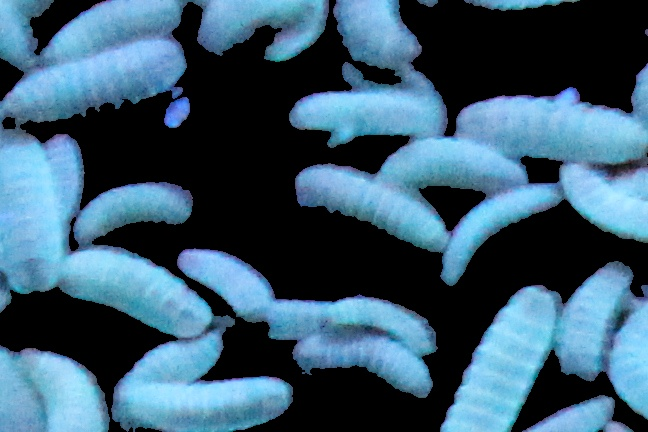larvae: (442, 286, 566, 432), (1, 36, 187, 123), (510, 207, 648, 317), (454, 95, 648, 161), (295, 166, 447, 250), (441, 182, 562, 284), (1, 131, 65, 292), (118, 377, 292, 432), (291, 331, 433, 396), (556, 259, 632, 379), (292, 88, 448, 142), (40, 1, 182, 60), (374, 140, 534, 192), (23, 340, 110, 432), (72, 184, 192, 247), (178, 240, 269, 321), (322, 291, 440, 353), (558, 164, 648, 243), (197, 1, 309, 55), (325, 1, 419, 63), (121, 331, 221, 389), (609, 296, 648, 420), (1, 346, 47, 432), (43, 136, 83, 218), (529, 396, 617, 432), (271, 293, 335, 336)
